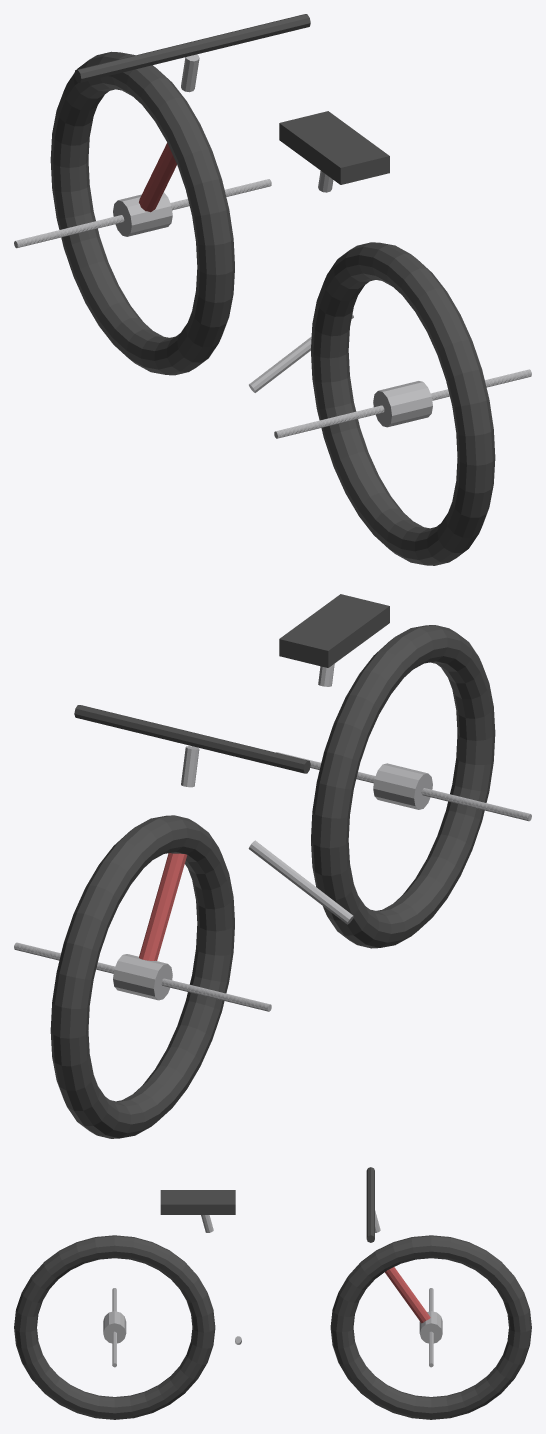
File: bike-1.glb
3 views of the same model, one above another, from view 1: azimuth 30°, elevation 25°; view 2: azimuth 150°, elevation 25°; view 3: azimuth 270°, elevation 25° (orthographic). The views are drawn at different scales.
Parts seen in each view (by area): view 1: wheel_back, wheel_front, saddle, handlebar, frame, crank; view 2: wheel_front, wheel_back, saddle, handlebar, frame, crank; view 3: wheel_back, wheel_front, saddle, frame, handlebar.
Part boxes in pixels (<box>): wheel_back: <box>274,242,531,565</box>; wheel_front: <box>14,51,271,375</box>; saddle: <box>279,111,389,184</box>; handlebar: <box>74,14,310,82</box>; frame: <box>139,143,176,212</box>; crank: <box>249,314,353,392</box>; wheel_front: <box>14,815,271,1138</box>; wheel_back: <box>276,625,531,948</box>; saddle: <box>279,594,389,667</box>; handlebar: <box>74,705,310,773</box>; frame: <box>139,853,187,960</box>; crank: <box>248,840,353,924</box>; wheel_back: <box>14,1235,215,1419</box>; wheel_front: <box>330,1235,531,1419</box>; saddle: <box>160,1190,235,1214</box>; frame: <box>385,1267,430,1323</box>; handlebar: <box>366,1167,374,1242</box>.
Size of the model in its own units: 0.62 by 0.85 by 1.8.
